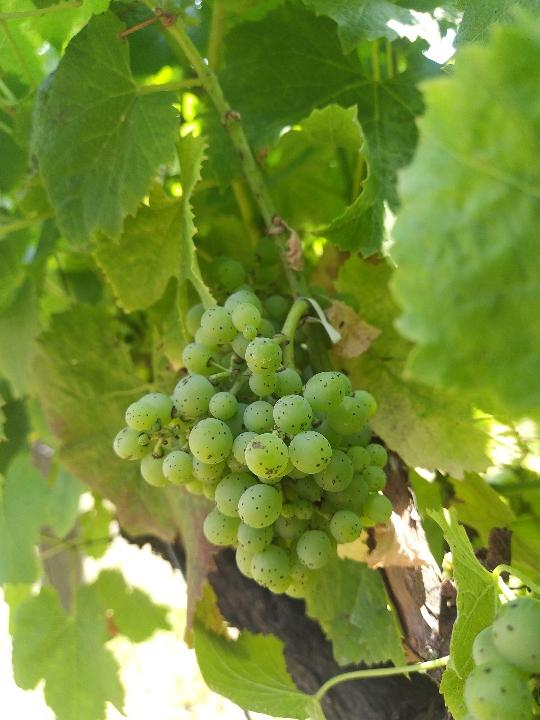grape: (112, 287, 394, 600)
